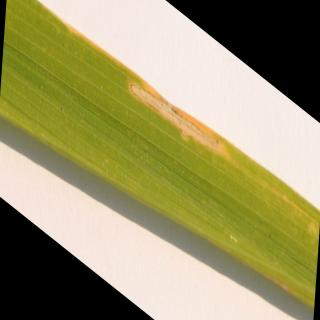Hawar-Daun: (128, 69, 231, 161), (228, 226, 240, 251)
